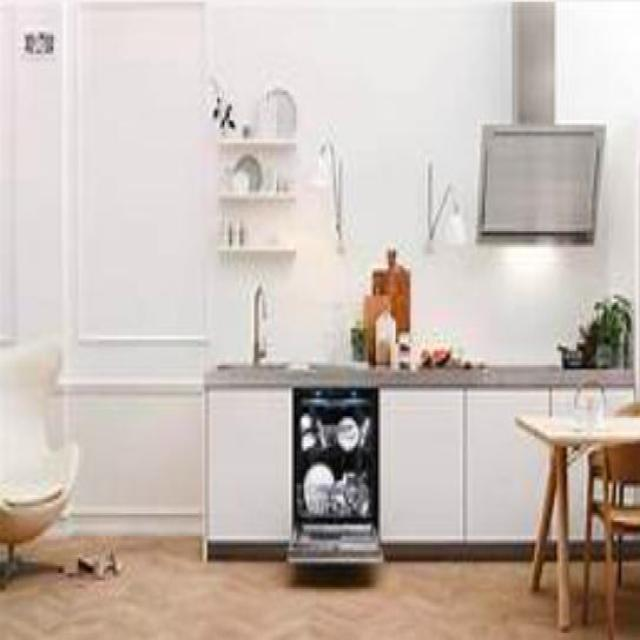dishwasher: (286, 386, 384, 568)
